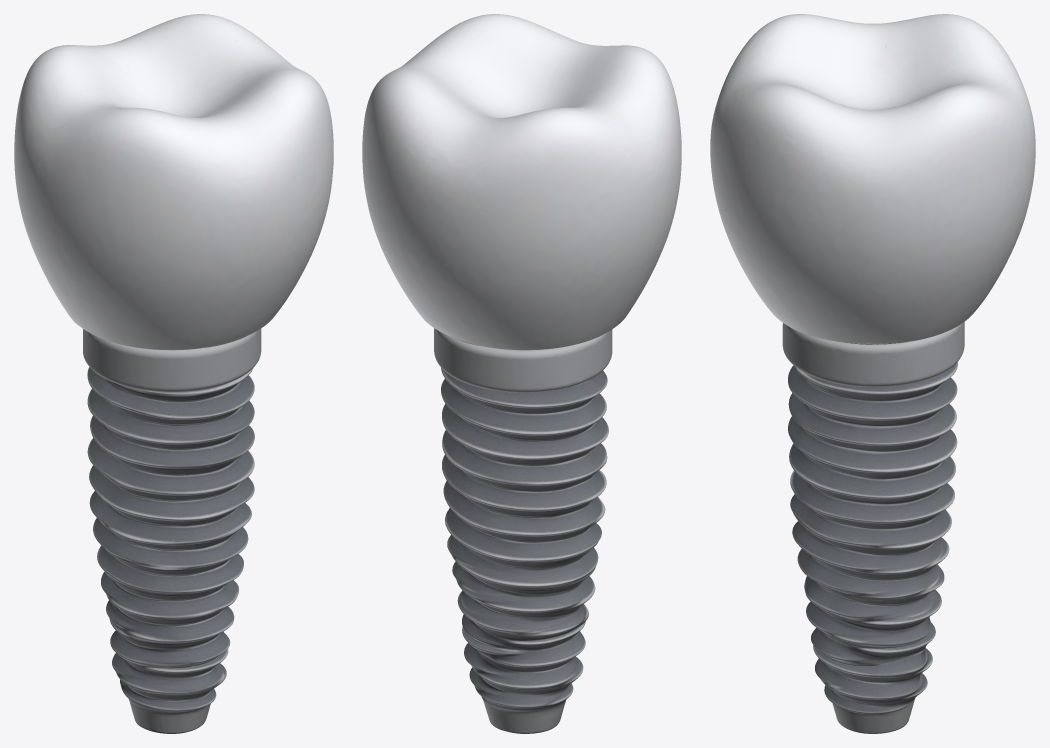
Rendered from impianto-hero-hq.glb.
3 views of the same model, side by side, from view 1: azimuth 30°, elevation 25°; view 2: azimuth 150°, elevation 25°; view 3: azimuth 270°, elevation 25° (orthographic).
Size of the model in its own units: 0.0531 by 0.12 by 0.0532.
1 material, 1 textured.
